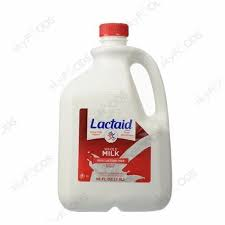milk: (58, 24, 174, 212)
